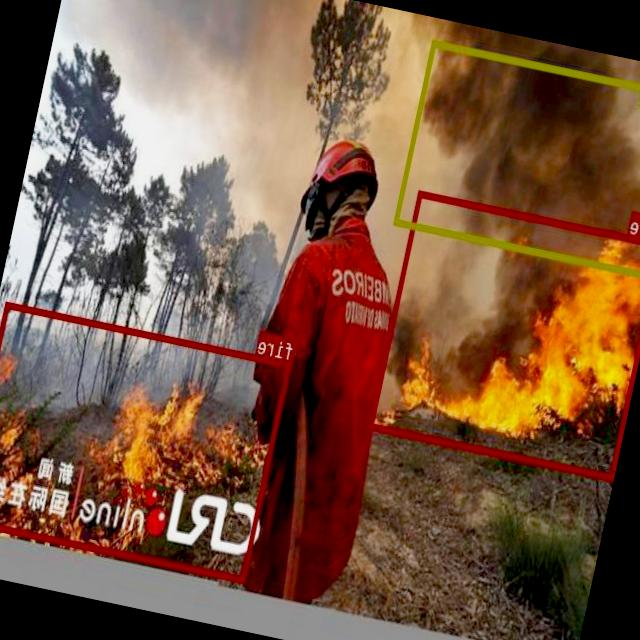fire: (0, 300, 292, 582), (369, 188, 640, 479)
smoke: (393, 39, 640, 278)
